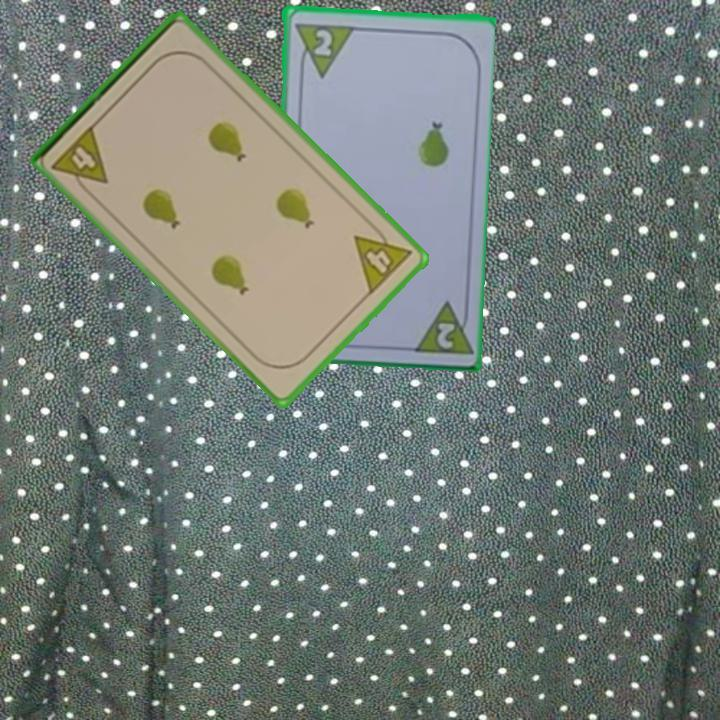2p: (407, 296, 473, 358), (310, 25, 335, 58)
4p: (350, 217, 415, 298), (48, 121, 112, 200)
